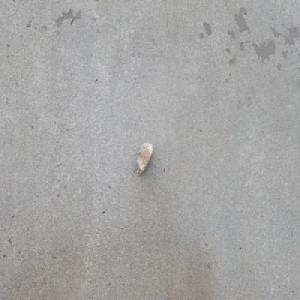Rock: (135, 141, 153, 175)
